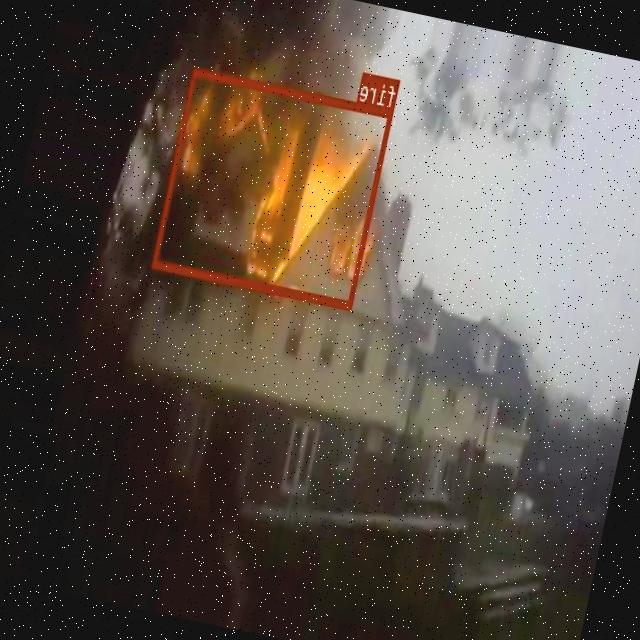fire: (153, 67, 394, 309)
